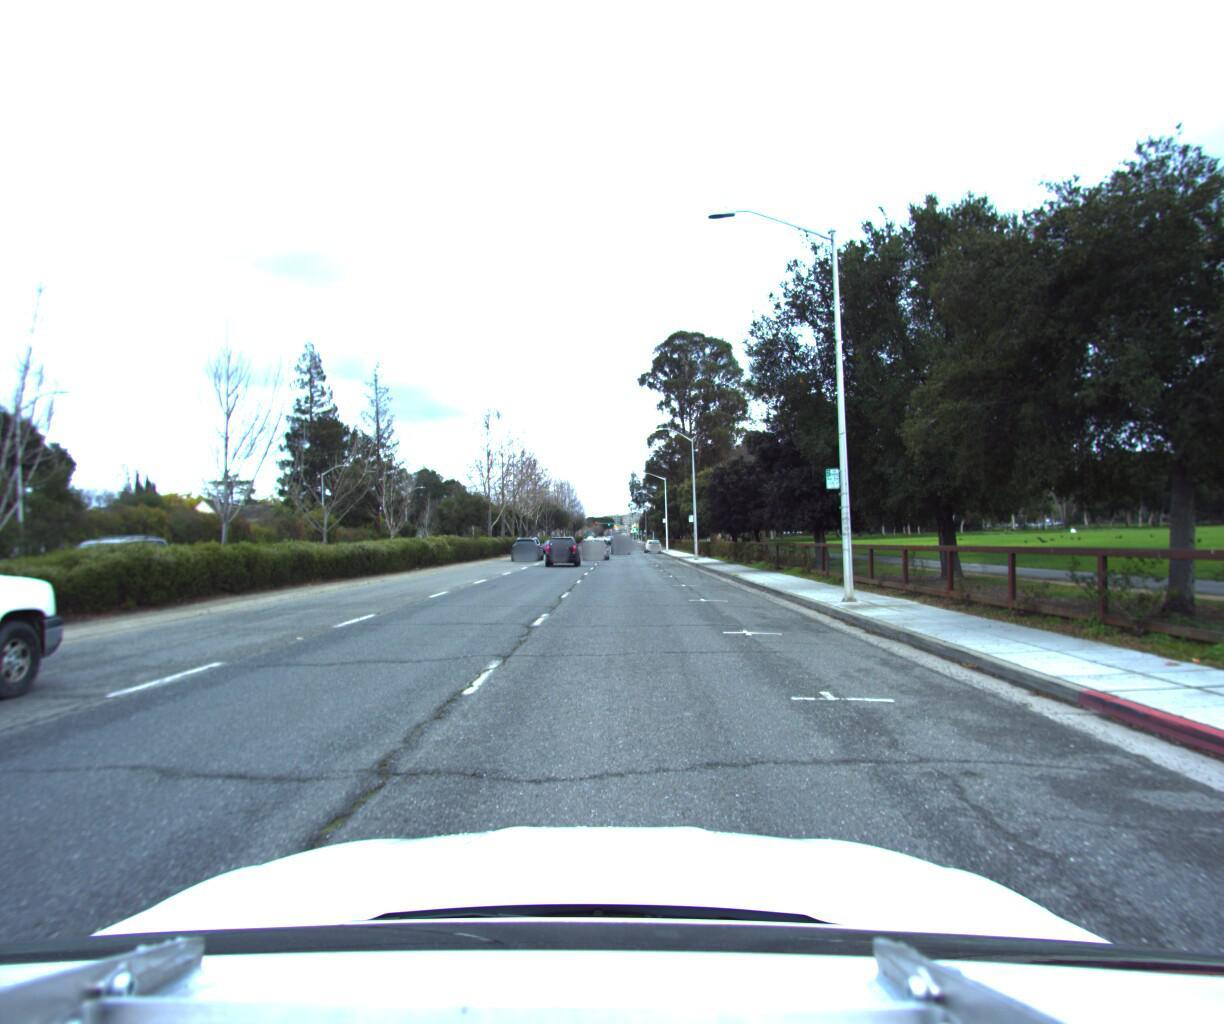car: (71, 535, 201, 584), (544, 540, 580, 573), (509, 542, 544, 568), (580, 544, 609, 567), (609, 542, 629, 561), (644, 545, 661, 559)
